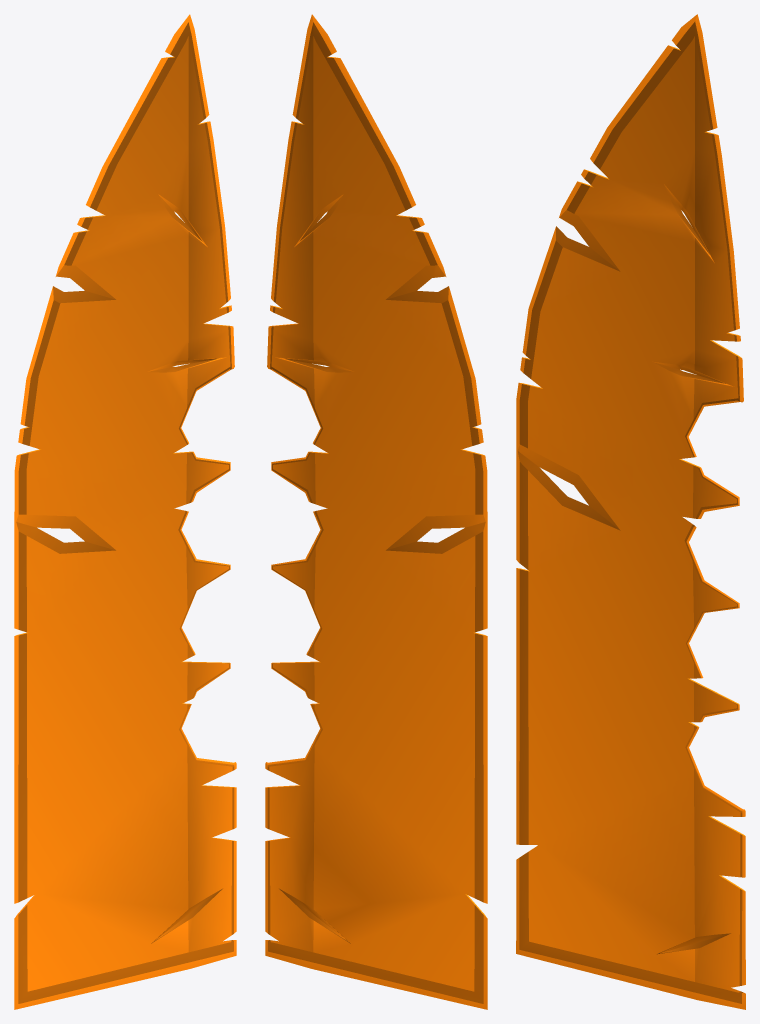
Rendered from bronze_blade_scratched_041.glb.
3 renders of one model, left to right at view 1: azimuth 30°, elevation 25°; view 2: azimuth 150°, elevation 25°; view 3: azimuth 330°, elevation 25°, orthographic. The views are drawn at different scales.
Parts seen in each view (by area): view 1: bronze_blade_scratched.041; view 2: bronze_blade_scratched.041; view 3: bronze_blade_scratched.041.
Part boxes in pixels (x1,y1,x2,y2): bronze_blade_scratched.041: [14, 14, 236, 1009]; bronze_blade_scratched.041: [265, 14, 487, 1009]; bronze_blade_scratched.041: [516, 14, 745, 1009].
Bounding box in the file's own units: 2.79 × 11.43 × 0.0204.
Materials: 1 (1 with a texture image).
